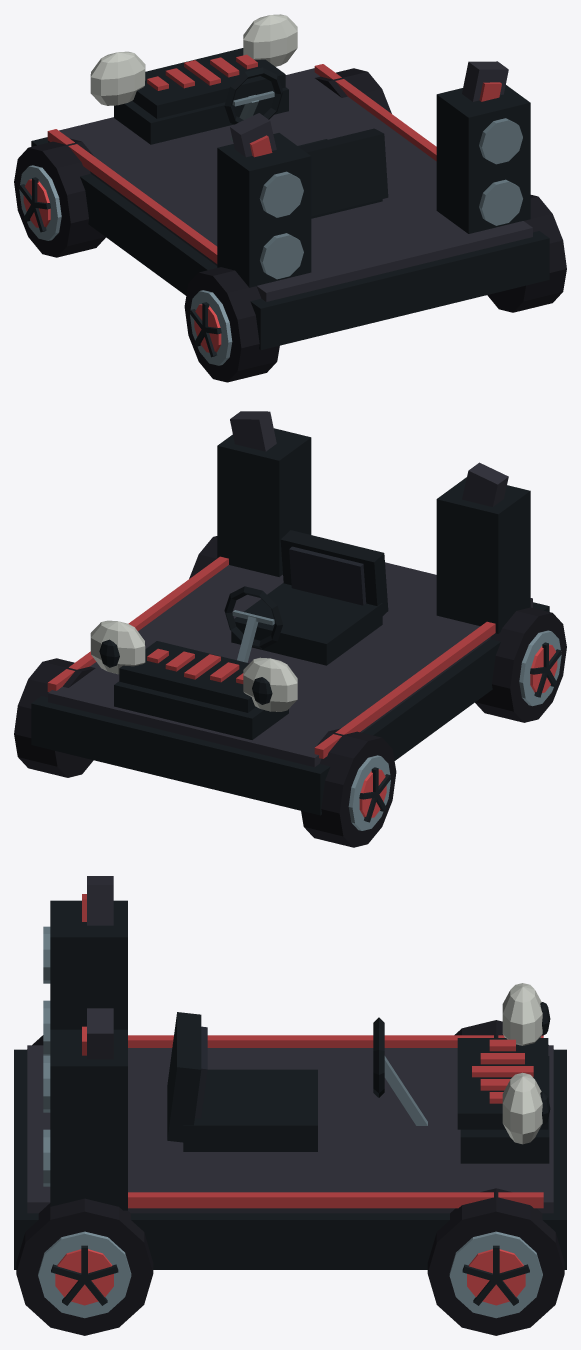
File: kart.glb
The picture shows the model from 3 angles, top to bottom: view 1: azimuth 30°, elevation 25°; view 2: azimuth 150°, elevation 25°; view 3: azimuth 270°, elevation 25°; orthographic projection. The views are drawn at different scales.
Parts seen in each view (by area): view 1: identity-stage-stage-platform-and-pa-towers, wheel-rear-left, wheel-front-left, identity-stage-driver-cockpit, identity-stage-motif-equalizer, identity-stage-motif-eyes, wheel-rear-right, identity-stage-motif-ears, wheel-front-right; view 2: identity-stage-stage-platform-and-pa-towers, identity-stage-driver-cockpit, wheel-front-left, wheel-rear-left, identity-stage-motif-equalizer, identity-stage-motif-eyes, wheel-front-right, identity-stage-motif-ears; view 3: identity-stage-stage-platform-and-pa-towers, identity-stage-driver-cockpit, wheel-front-right, wheel-rear-right, identity-stage-motif-equalizer, identity-stage-motif-eyes, identity-stage-motif-ears, wheel-front-left.
Part boxes in pixels (x1,y1,x2,y2): identity-stage-stage-platform-and-pa-towers: (31,64,549,350); wheel-rear-left: (184,267,279,382); wheel-front-left: (14,138,105,257); identity-stage-driver-cockpit: (224,67,388,218); identity-stage-motif-equalizer: (132,48,285,118); identity-stage-motif-eyes: (90,14,297,105); wheel-rear-right: (487,195,566,312); identity-stage-motif-ears: (230,61,508,157); wheel-front-right: (315,68,391,113); identity-stage-stage-platform-and-pa-towers: (31,428,549,815); identity-stage-driver-cockpit: (224,530,388,665); wheel-front-left: (301,728,396,847); wheel-rear-left: (475,607,566,722); identity-stage-motif-equalizer: (119,641,255,712); identity-stage-motif-eyes: (90,620,297,711); wheel-front-right: (14,658,95,777); identity-stage-motif-ears: (230,411,508,506); identity-stage-stage-platform-and-pa-towers: (14,900,566,1269); identity-stage-driver-cockpit: (167,1012,427,1151); wheel-front-right: (427,1188,564,1335); wheel-rear-right: (16,1198,153,1335); identity-stage-motif-equalizer: (457,1038,548,1129); identity-stage-motif-eyes: (502,983,550,1144); identity-stage-motif-ears: (82,876,113,1059); wheel-front-left: (454,1020,548,1045).
Bounding box in the file's own units: 2.16 × 1.46 × 2.5.
